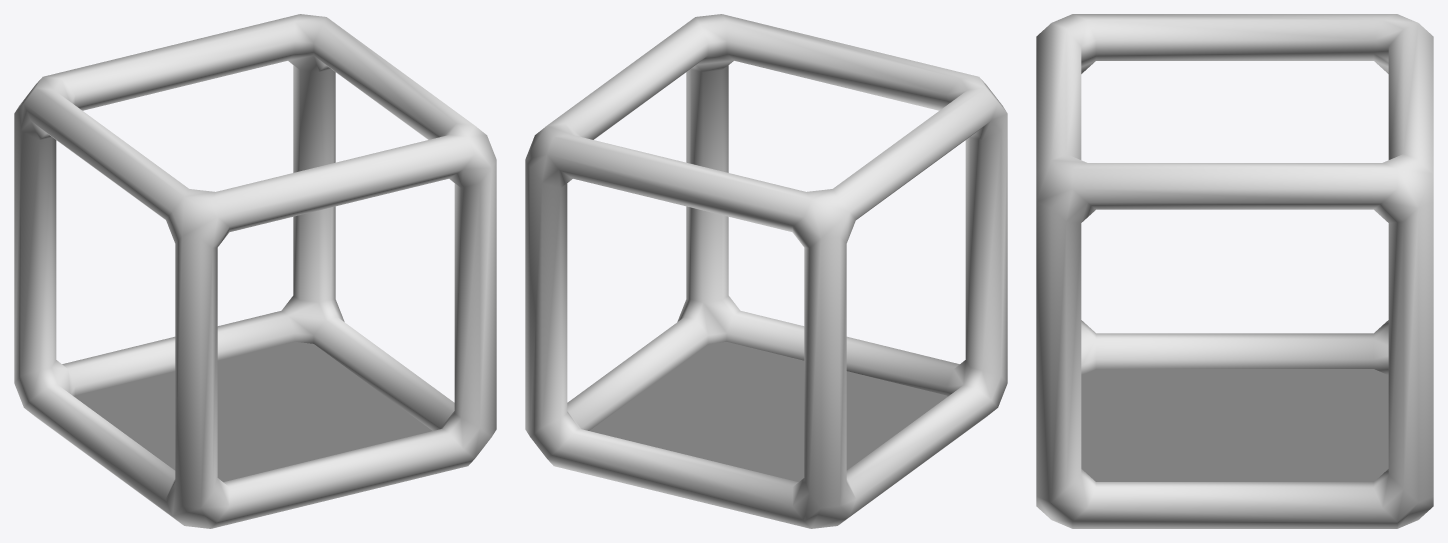
Rendered from block_character.fbx.
3 views of the same model, side by side, from view 1: azimuth 30°, elevation 25°; view 2: azimuth 150°, elevation 25°; view 3: azimuth 270°, elevation 25° (orthographic). The views are drawn at different scales.
Visible parts, largest first — view 1: block_character; view 2: block_character; view 3: block_character.
Part boxes in pixels (bbox=[...]): block_character: bbox=[14, 14, 496, 528]; block_character: bbox=[525, 14, 1007, 528]; block_character: bbox=[1036, 14, 1433, 528].
Size of the model in its own units: 200 by 200 by 200.
